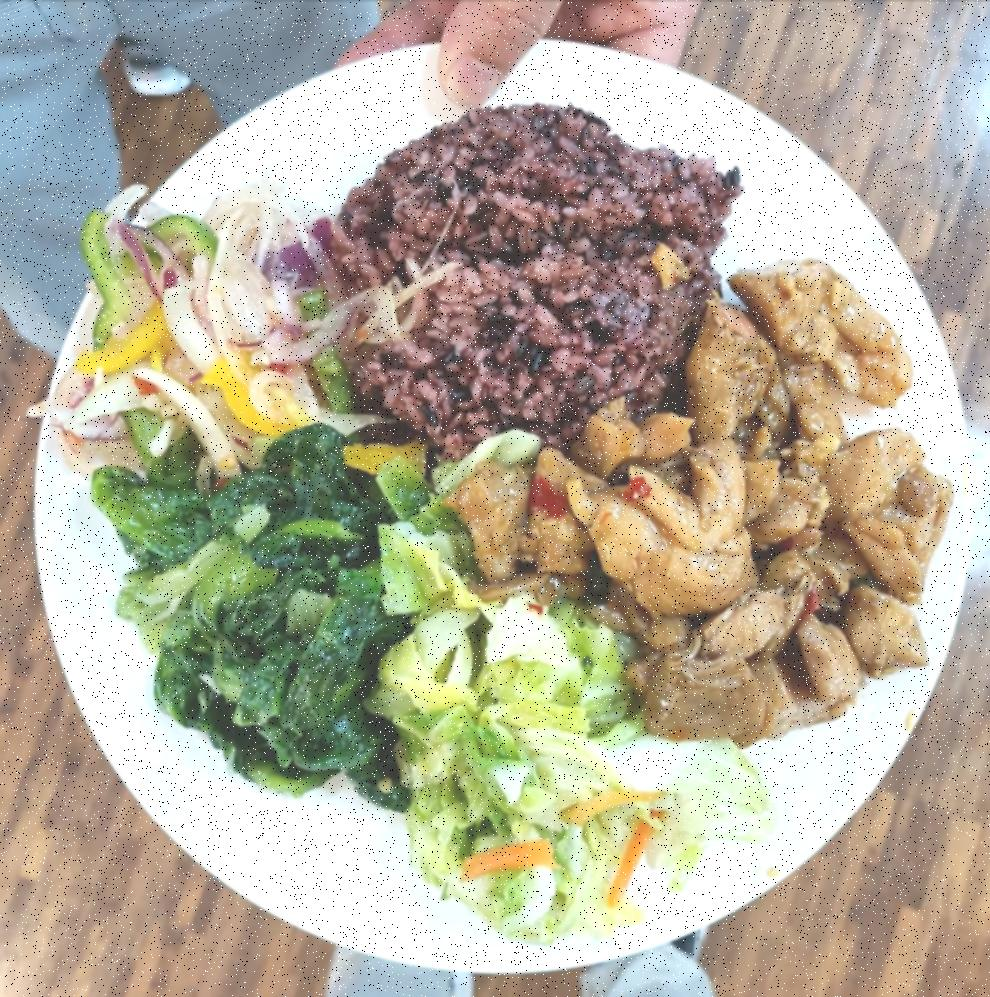plate: (13, 26, 974, 982)
purple rice: (325, 106, 710, 440)
side dish: (344, 560, 667, 932), (113, 444, 379, 810), (70, 181, 324, 483)
three cup chicken: (502, 329, 930, 684)
